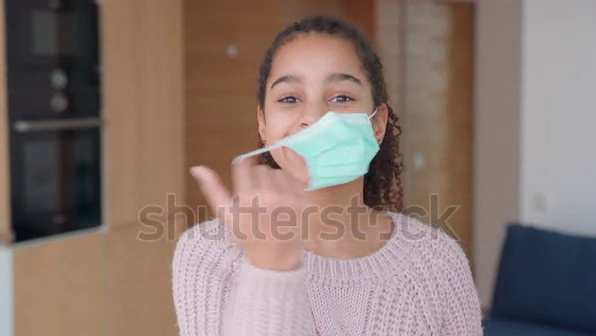Mask: (260, 116, 385, 193)
